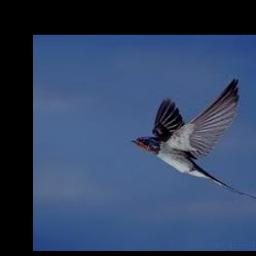Swallow: (133, 78, 256, 199)
